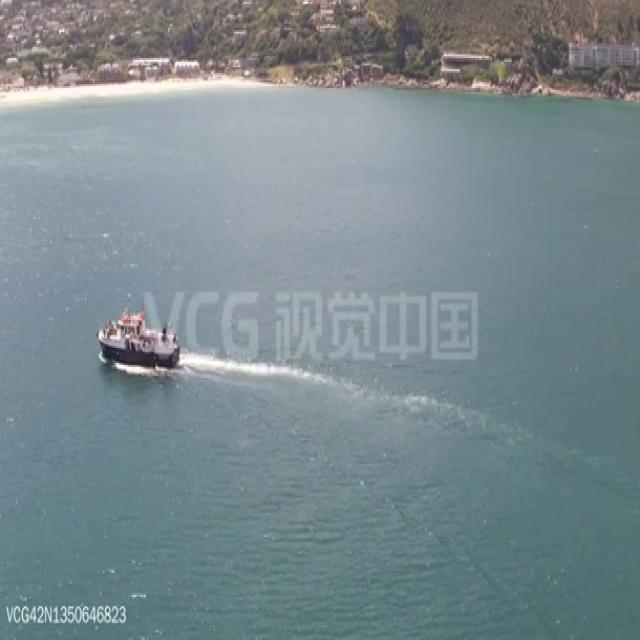houseboat: (97, 296, 182, 368)
